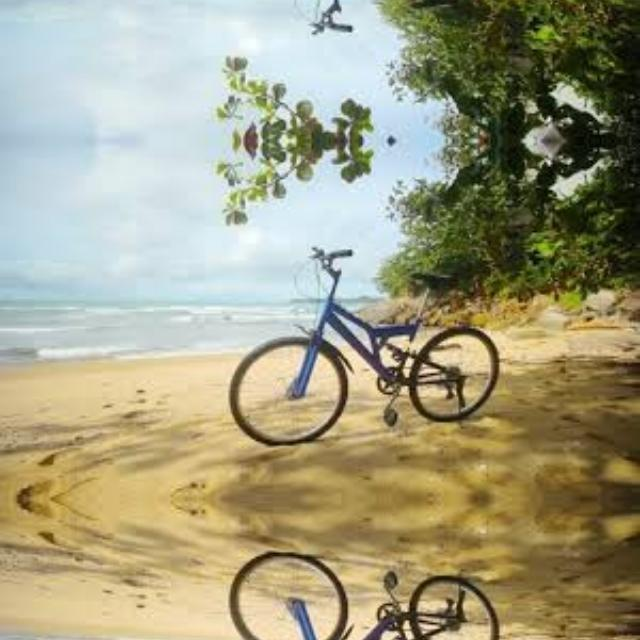obstacle: (213, 212, 523, 450), (213, 547, 523, 640), (213, 0, 523, 67)
